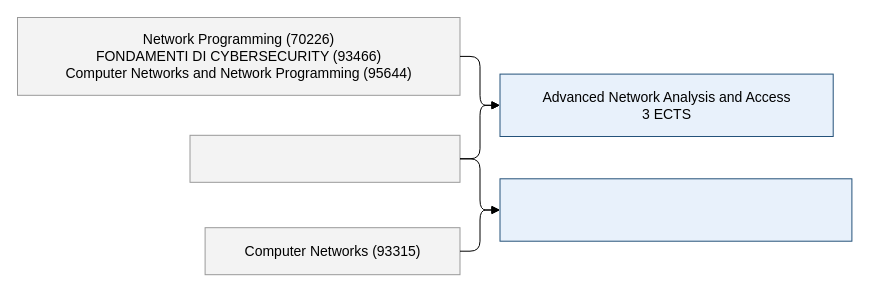
The diagram is 870 pixels wide and 293 high, and some of its shapes have lost their labels. The centre of each missing label's shape, as x and y in pixels:
"Internet Architecture (58423)" goes at point (324, 158).
"Network Analysis and Access Foundations 3 ECTS" goes at point (675, 209).
